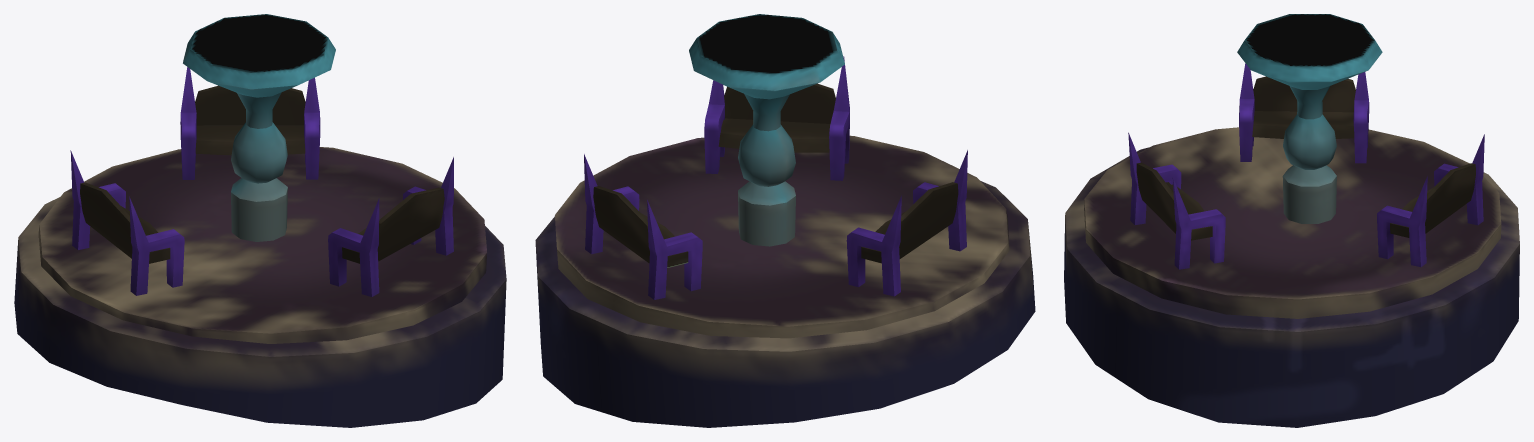
The model's file is modul_garden_2.fbx.
3 views of the same model, side by side, from view 1: azimuth 30°, elevation 25°; view 2: azimuth 150°, elevation 25°; view 3: azimuth 270°, elevation 25° (orthographic). The views are drawn at different scales.
Visible parts, largest first — view 1: modul_garden_2; view 2: modul_garden_2; view 3: modul_garden_2.
Boxes of the visible parts, left/top/right/bottom form: modul_garden_2: left=14, top=14, right=506, bottom=427; modul_garden_2: left=535, top=14, right=1035, bottom=427; modul_garden_2: left=1064, top=14, right=1519, bottom=427.
Bounding box in the file's own units: 1121 × 797 × 1111.
1 material, 1 textured.
